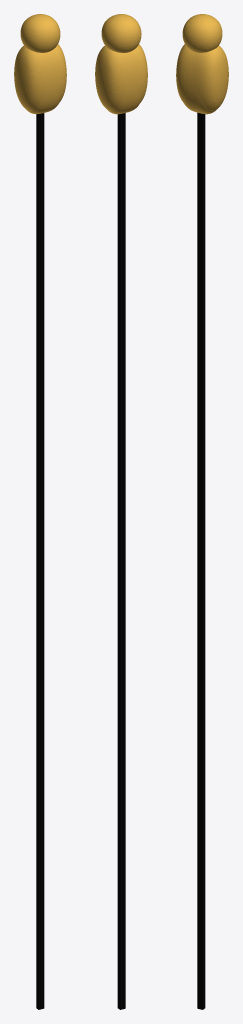
File: doll.glb
3 views of the same model, side by side, from view 1: azimuth 30°, elevation 25°; view 2: azimuth 210°, elevation 25°; view 3: azimuth 330°, elevation 25° (orthographic).
Parts seen in each view (by area): view 1: doll-gold; view 2: doll-gold; view 3: doll-gold.
Part boxes in pixels (box(x1,y1,x2,y2)): doll-gold: box(14, 14, 66, 1009); doll-gold: box(95, 14, 147, 1009); doll-gold: box(176, 14, 228, 1009).
Bounding box in the file's own units: 0.043 × 0.9267 × 0.0365.
